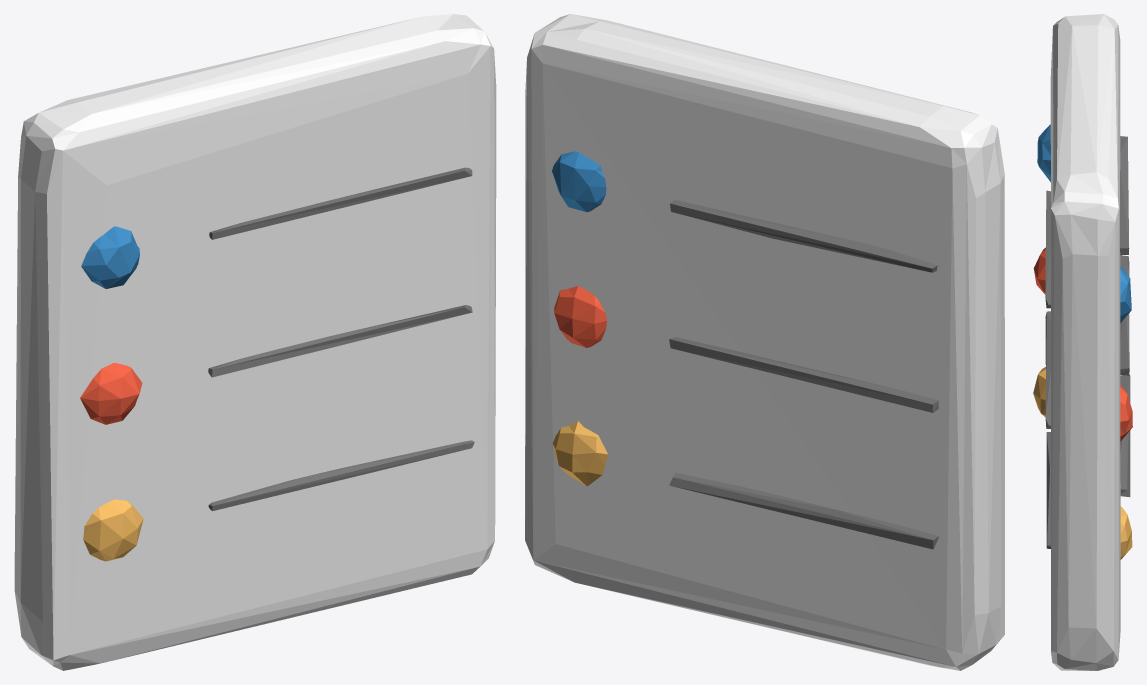
Rendered from reminders.glb.
3 views of the same model, side by side, from view 1: azimuth 30°, elevation 25°; view 2: azimuth 150°, elevation 25°; view 3: azimuth 270°, elevation 25° (orthographic). The views are drawn at different scales.
Visible parts, largest first — view 1: reminders; view 2: reminders; view 3: reminders.
Boxes of the visible parts, bbox=[...] form: reminders: bbox=[14, 14, 496, 670]; reminders: bbox=[525, 14, 1004, 670]; reminders: bbox=[1033, 14, 1132, 670].
Bounding box in the file's own units: 12.57 × 14.39 × 2.66.
Materials: 1 (1 with a texture image).
